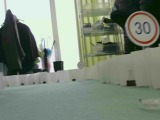speed_30: (122, 10, 160, 46)
